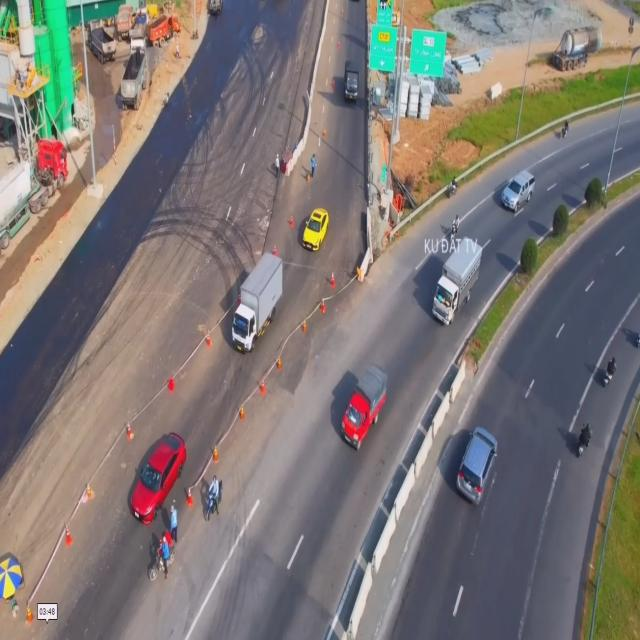car: (126, 429, 188, 524), (454, 420, 498, 512), (501, 167, 536, 214), (302, 205, 330, 252)
motorbike: (145, 534, 177, 583), (201, 473, 227, 522), (577, 419, 591, 463), (602, 353, 616, 390), (450, 212, 459, 240)
truck: (230, 251, 284, 355), (429, 235, 484, 325), (342, 362, 387, 452), (342, 57, 360, 104)
